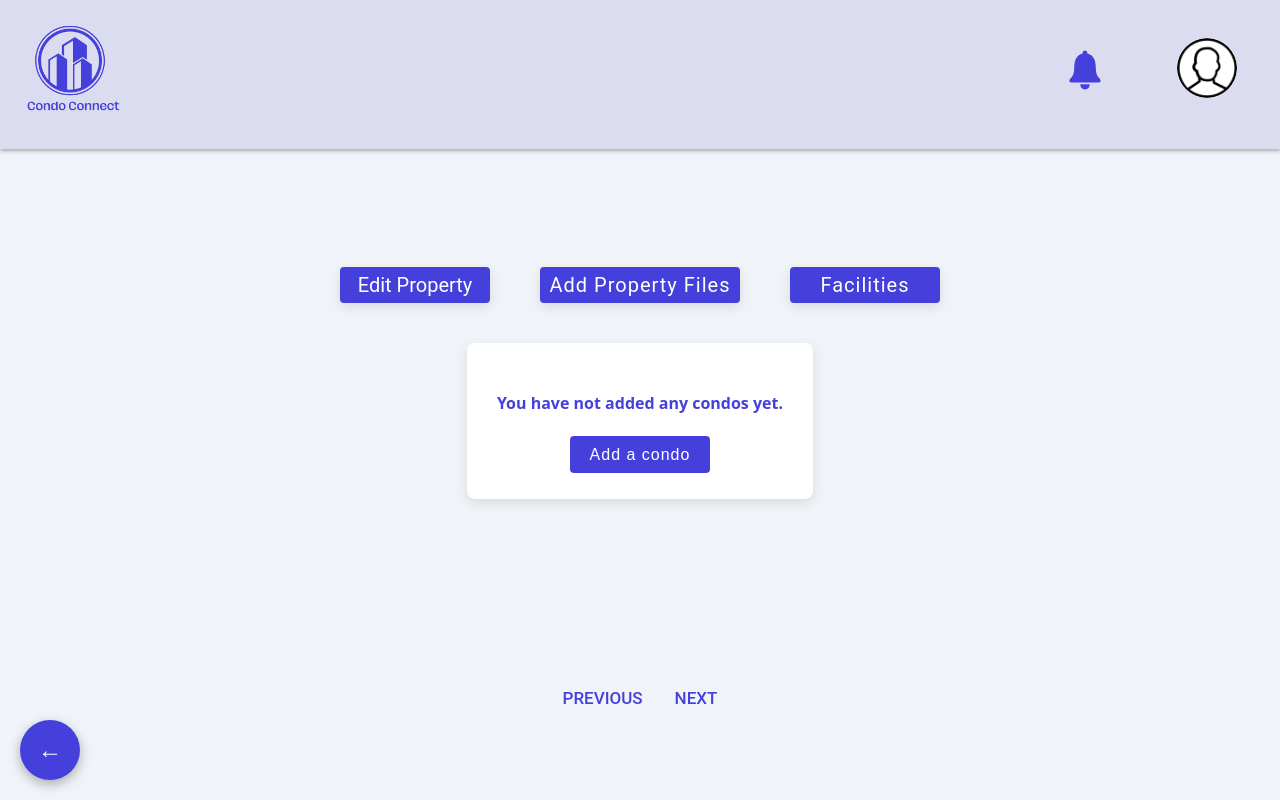
PropertyDetailsPage component › toggleEdit toggles the value of showEdit
# Trigger toggleEdit
Click the button "Edit Property". click: (415, 285)
box: [340,267,490,303]
(page scrolled)
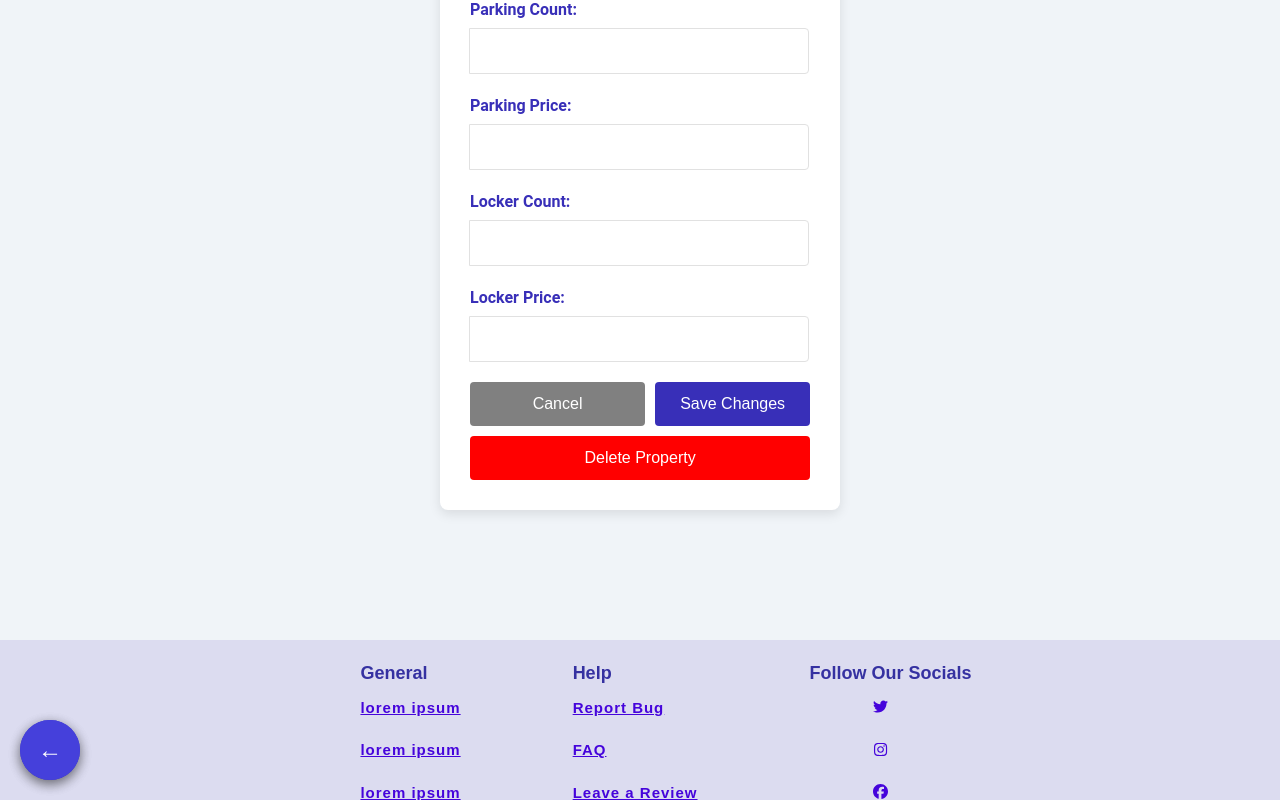
Check: the button "Cancel" is shown, box [470,382,645,426]
